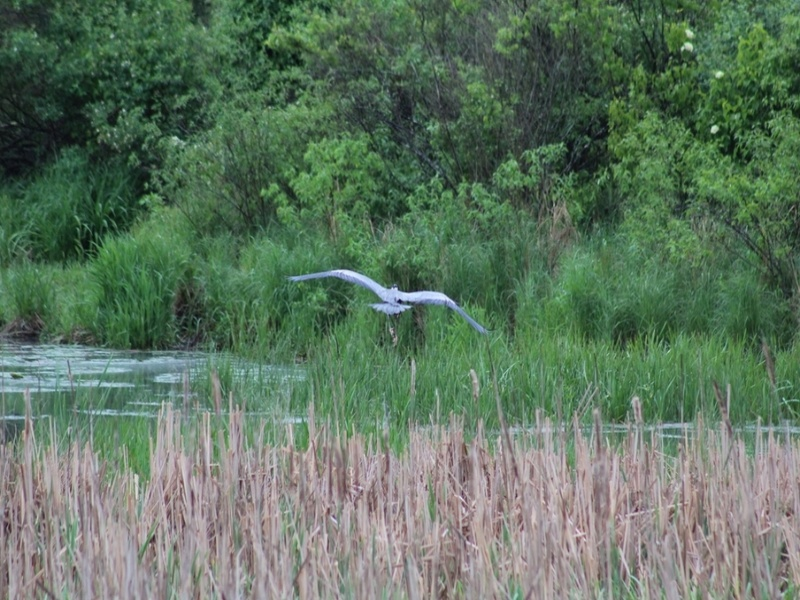heron: (285, 256, 495, 344)
